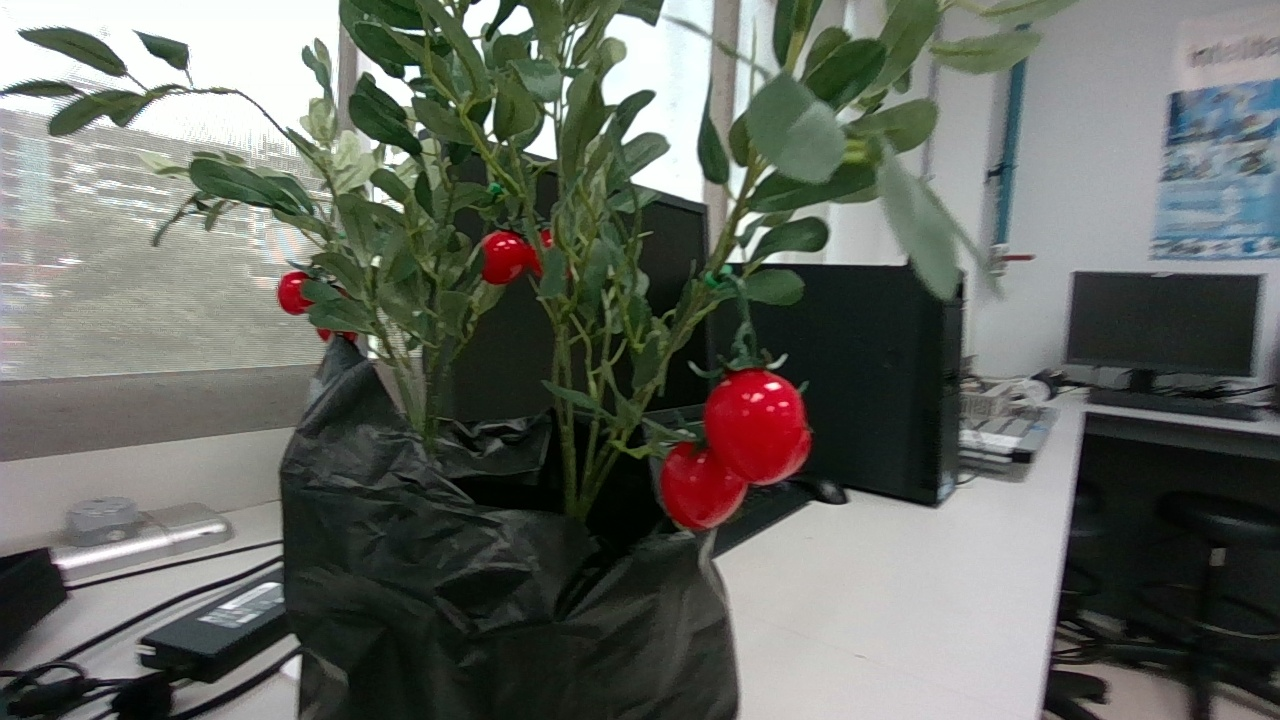peduncle: (725, 274, 750, 320)
strawberry: (704, 368, 813, 483), (660, 442, 749, 530), (480, 230, 532, 284), (276, 270, 312, 314), (316, 327, 332, 342)
